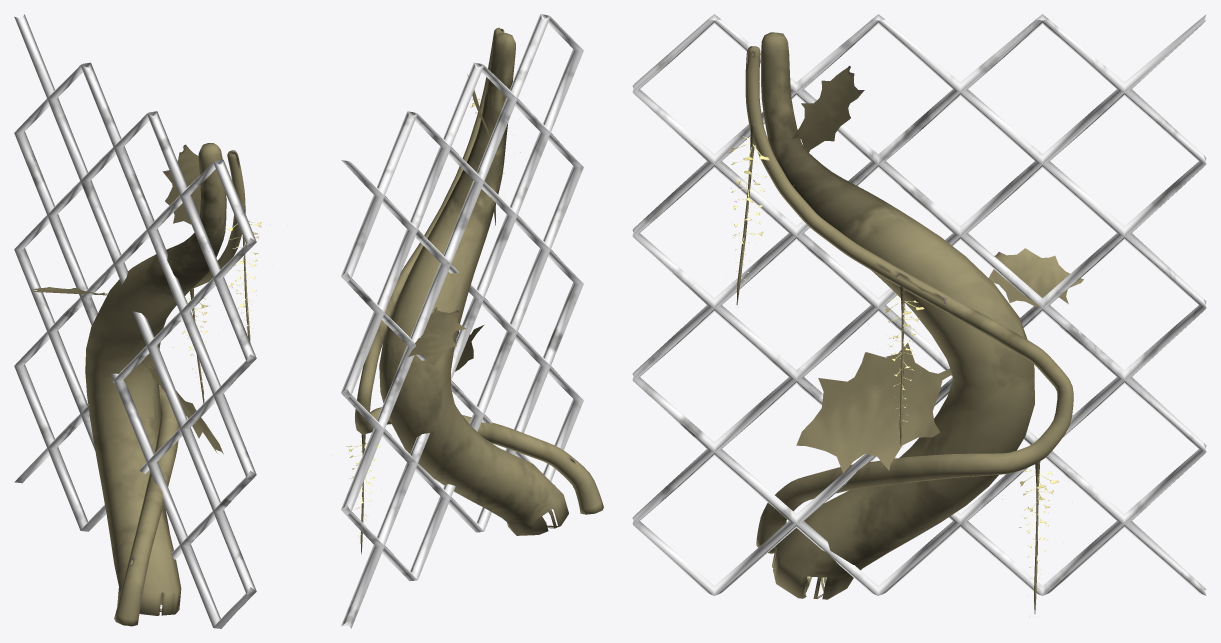
File: SparkDead.fbx
3 views of the same model, side by side, from view 1: azimuth 30°, elevation 25°; view 2: azimuth 150°, elevation 25°; view 3: azimuth 270°, elevation 25° (orthographic). The views are drawn at different scales.
Parts seen in each view (by area): view 1: SparkmintPlantable; view 2: SparkmintPlantable; view 3: SparkmintPlantable.
Part boxes in pixels (x1,y1,x2,y2): SparkmintPlantable: (14,14,270,628); SparkmintPlantable: (332,14,603,628); SparkmintPlantable: (632,14,1206,613).
Size of the model in its own units: 246 by 664 by 588.
Materials: 2 (2 with a texture image).
